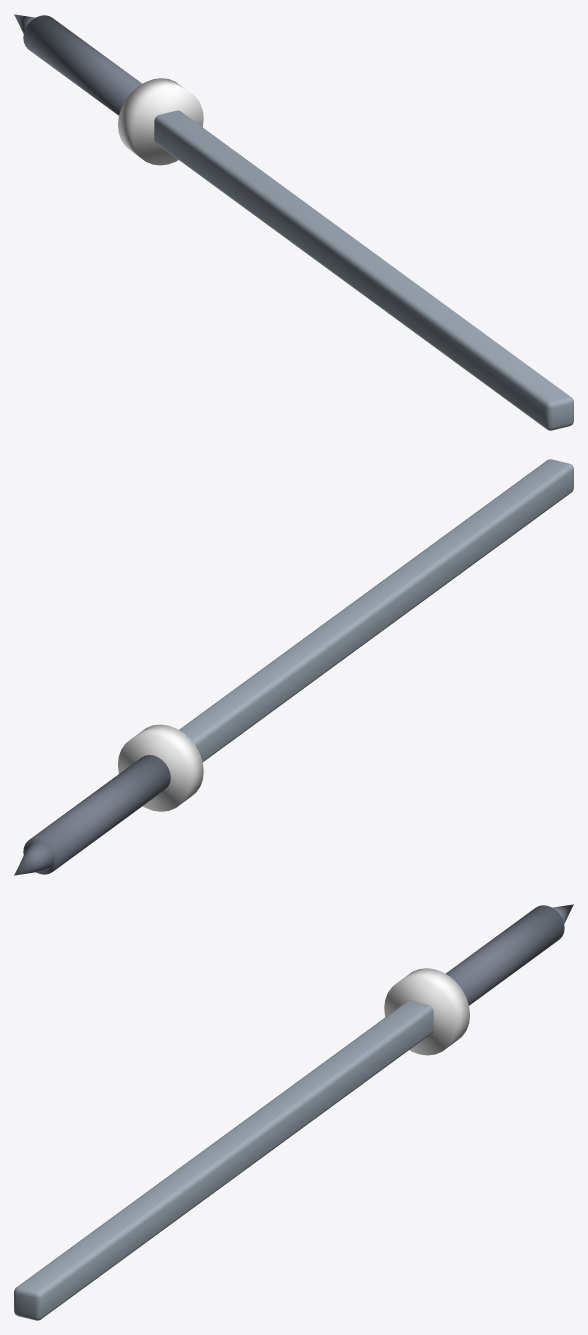
Rendered from flying-nail.obj.
3 views of the same model, one above another, from view 1: azimuth 30°, elevation 25°; view 2: azimuth 150°, elevation 25°; view 3: azimuth 330°, elevation 25° (orthographic).
Visible parts, largest first — view 1: flying-nail; view 2: flying-nail; view 3: flying-nail.
Part boxes in pixels (<box>): flying-nail: <box>14,14,573,430</box>; flying-nail: <box>14,459,573,875</box>; flying-nail: <box>14,904,573,1320</box>.
Size of the model in its own units: 0.031 by 0.031 by 0.4125.
